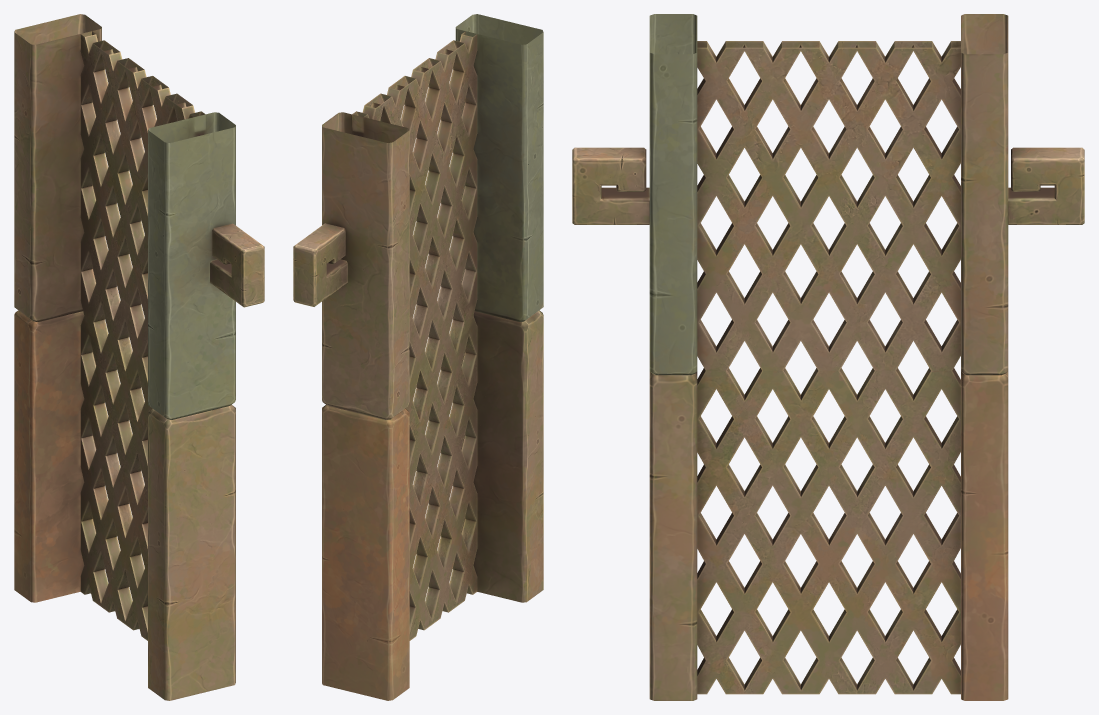
Rendered from SM_Lattice_Window_Tall.fbx.
3 views of the same model, side by side, from view 1: azimuth 30°, elevation 25°; view 2: azimuth 150°, elevation 25°; view 3: azimuth 270°, elevation 25° (orthographic). The views are drawn at different scales.
Parts seen in each view (by area): view 1: SM_Lattice_Window_Tall_LOD0; view 2: SM_Lattice_Window_Tall_LOD0; view 3: SM_Lattice_Window_Tall_LOD0.
Part boxes in pixels (bbox=[...]): SM_Lattice_Window_Tall_LOD0: bbox=[14, 14, 264, 700]; SM_Lattice_Window_Tall_LOD0: bbox=[293, 14, 543, 700]; SM_Lattice_Window_Tall_LOD0: bbox=[572, 14, 1084, 700].
Size of the model in its own units: 40 by 215 by 300.
1 material, 1 textured.
